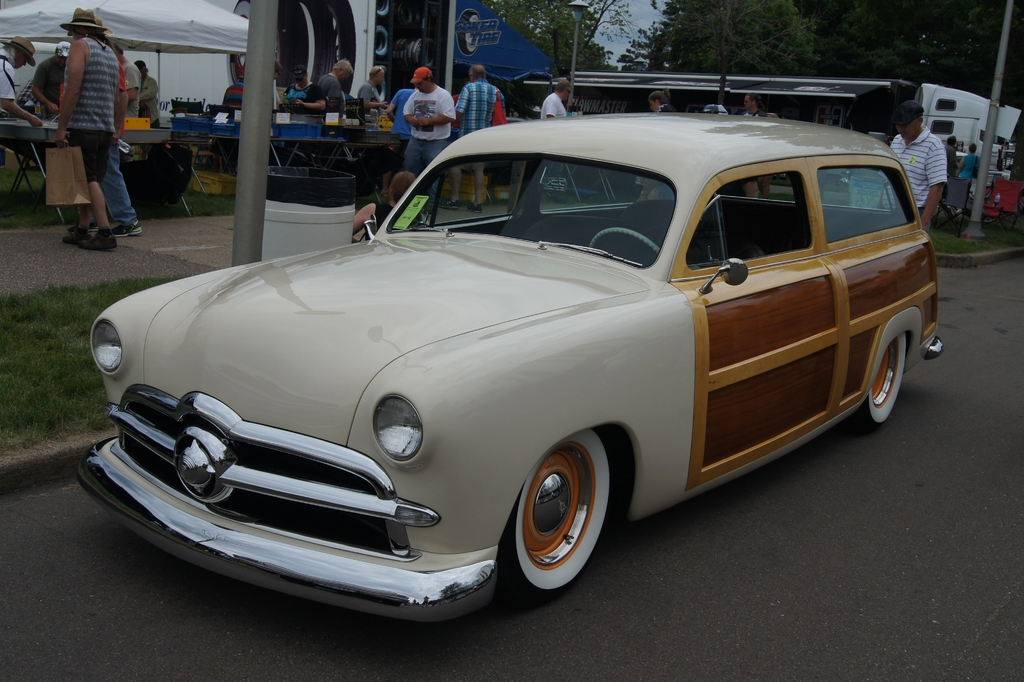Car: (49, 117, 950, 620)
